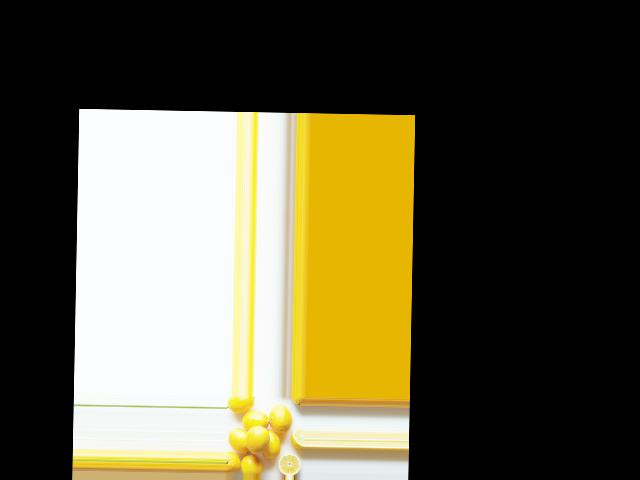lemon: (240, 454, 261, 474)
